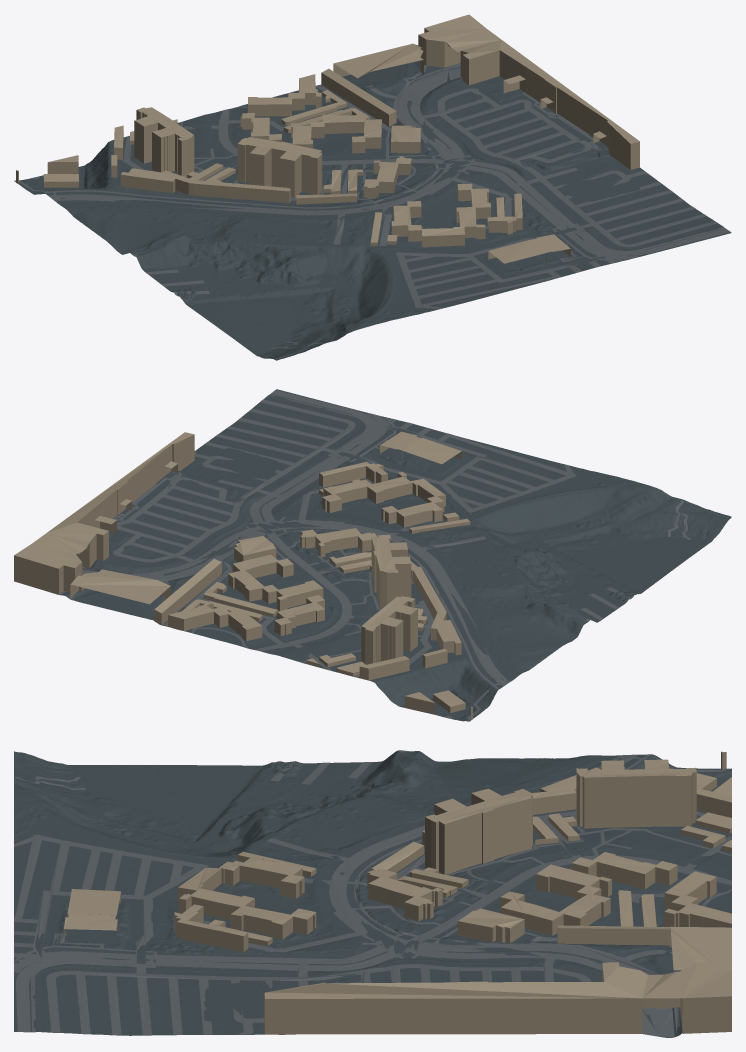
Rendered from epsg26910-1421-10874.lod0.glb.
The picture shows the model from 3 angles, top to bottom: view 1: azimuth 30°, elevation 25°; view 2: azimuth 150°, elevation 25°; view 3: azimuth 270°, elevation 25°; orthographic projection. The views are drawn at different scales.
Visible parts, largest first — view 1: epsg26910-1421-10874-lod0; view 2: epsg26910-1421-10874-lod0; view 3: epsg26910-1421-10874-lod0.
Boxes of the visible parts, x1,y1,x2,y2 form: epsg26910-1421-10874-lod0: (14, 14, 731, 360); epsg26910-1421-10874-lod0: (14, 389, 731, 721); epsg26910-1421-10874-lod0: (14, 750, 731, 1037).
Bounding box in the file's own units: 384 × 50.02 × 384.
